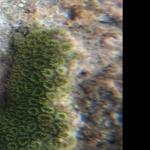alive: (4, 1, 120, 145)
